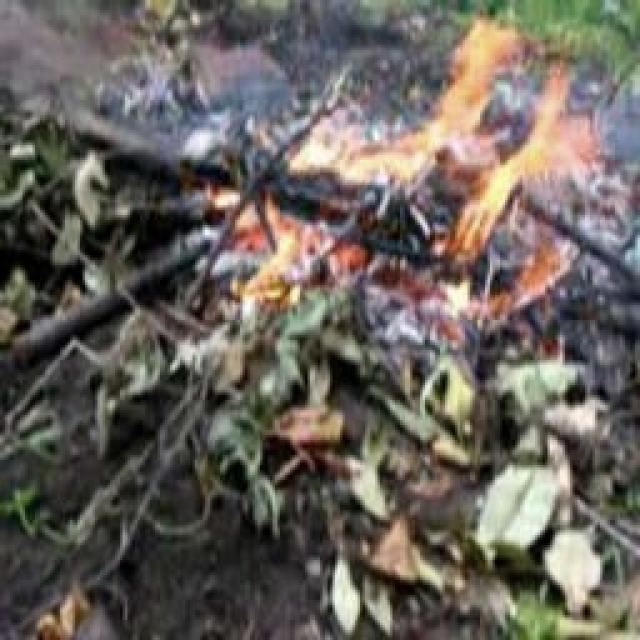Fire: (221, 30, 589, 310)
